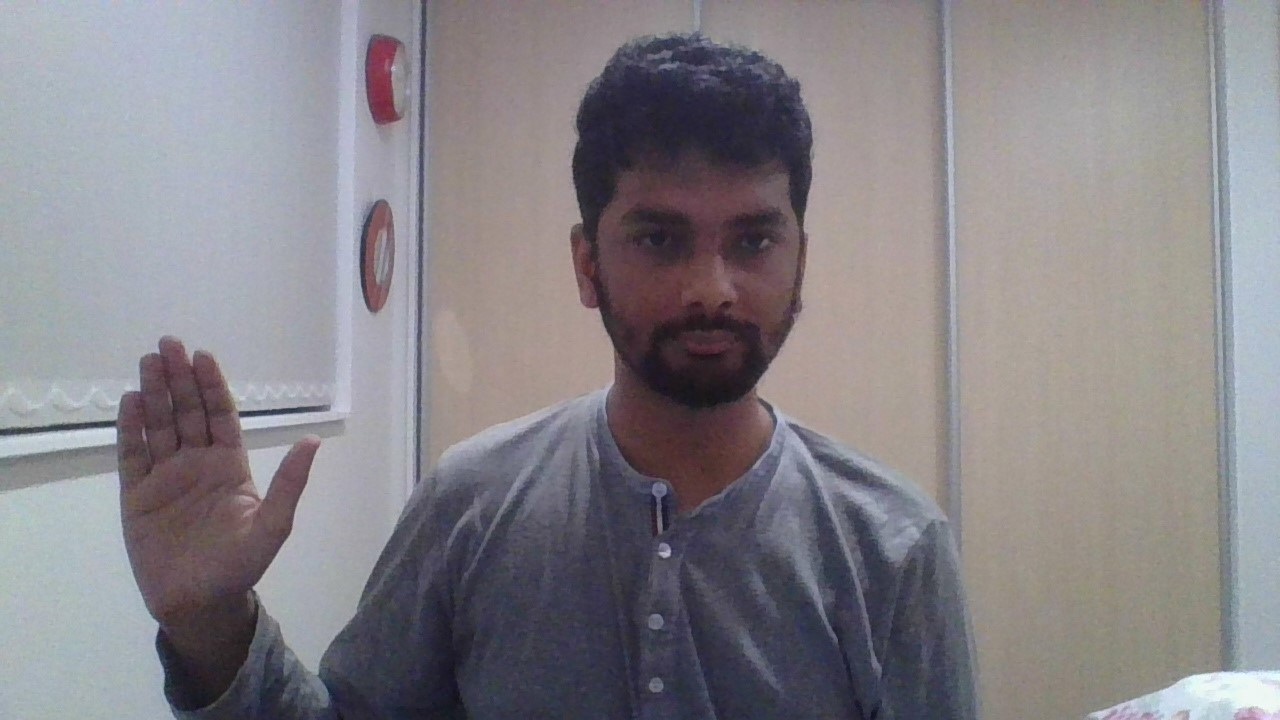hello: (118, 335, 322, 611)
